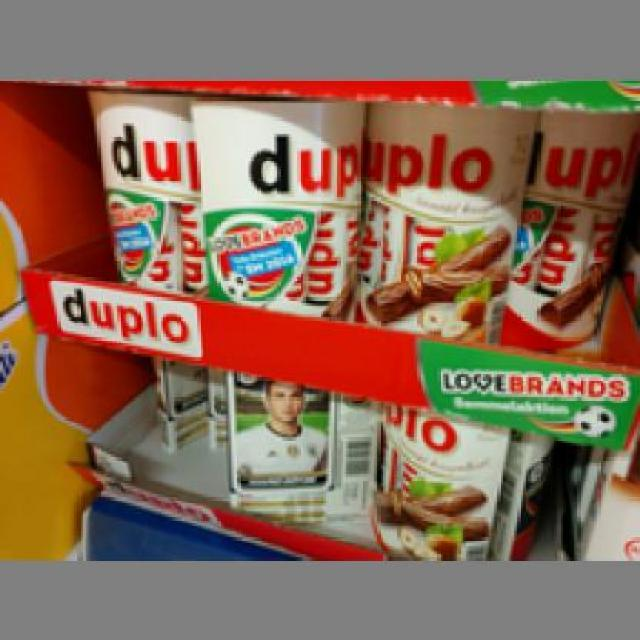Chocolate: (194, 94, 363, 317), (360, 100, 506, 337), (83, 86, 203, 286), (366, 405, 494, 558)
